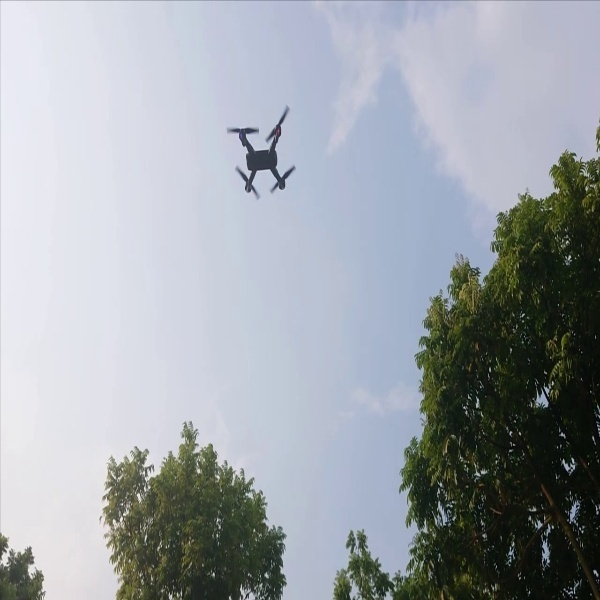drone: (218, 102, 297, 202)
